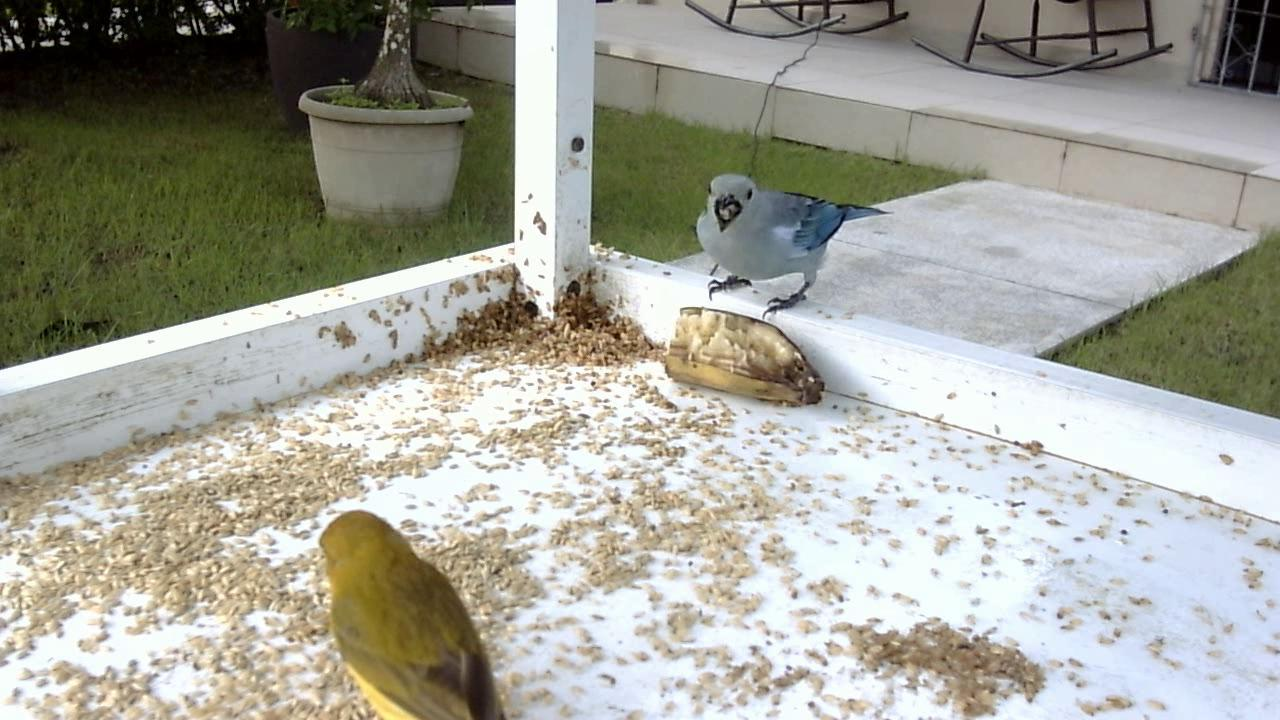canario_do_amazonas: (310, 504, 506, 712)
sanhaco_da_amazonia: (687, 167, 895, 319)
